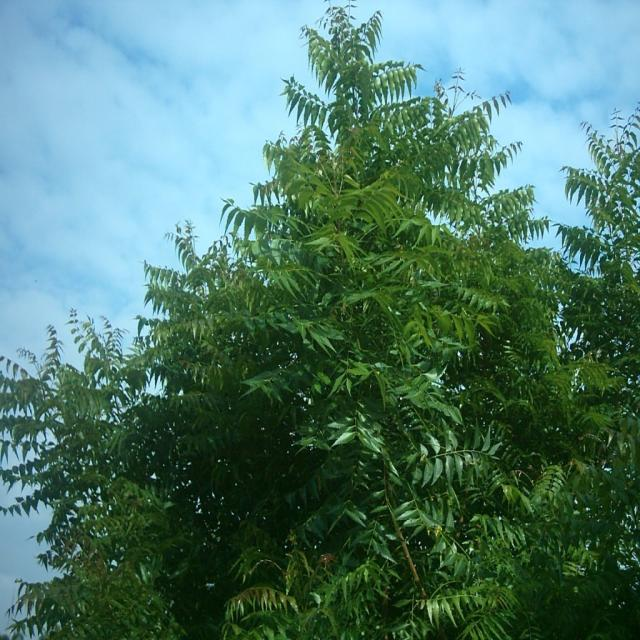Medicinal-Neem: (232, 12, 556, 516), (0, 197, 241, 640), (241, 465, 614, 640)
